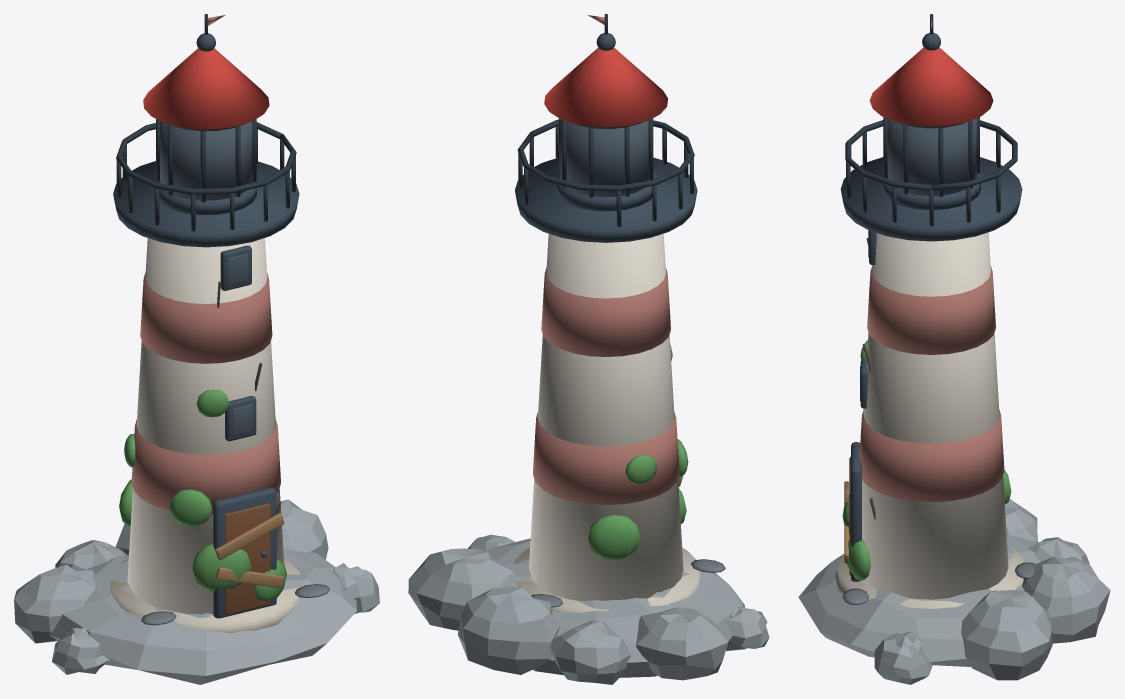
Rendered from lighthouse-dark.glb.
The picture shows the model from 3 angles, left to right: view 1: azimuth 30°, elevation 25°; view 2: azimuth 150°, elevation 25°; view 3: azimuth 270°, elevation 25°; orthographic projection. The views are drawn at different scales.
Parts seen in each view (by area): view 1: tower, rock, gallery, lantern, roof, ivy; view 2: tower, rock, gallery, lantern, roof, ivy; view 3: tower, rock, gallery, lantern, roof, ivy.
Part boxes in pixels (box(x1,y1,x2,y2)): tower: box(127, 238, 284, 618); rock: box(14, 499, 379, 684); gallery: box(113, 122, 299, 247); lantern: box(155, 119, 256, 215); roof: box(143, 14, 269, 129); ivy: box(119, 281, 286, 600); tower: box(529, 233, 683, 600); rock: box(408, 534, 769, 684); gallery: box(515, 119, 697, 242); lantern: box(556, 118, 655, 211); roof: box(544, 14, 667, 127); ivy: box(587, 345, 688, 559); tower: box(844, 230, 1008, 599); rock: box(798, 498, 1110, 684); gallery: box(840, 120, 1022, 241); lantern: box(882, 117, 980, 209); roof: box(869, 14, 993, 126); ivy: box(842, 238, 1011, 580).
Bounding box in the file's own units: 2.57 × 4.81 × 2.27.
